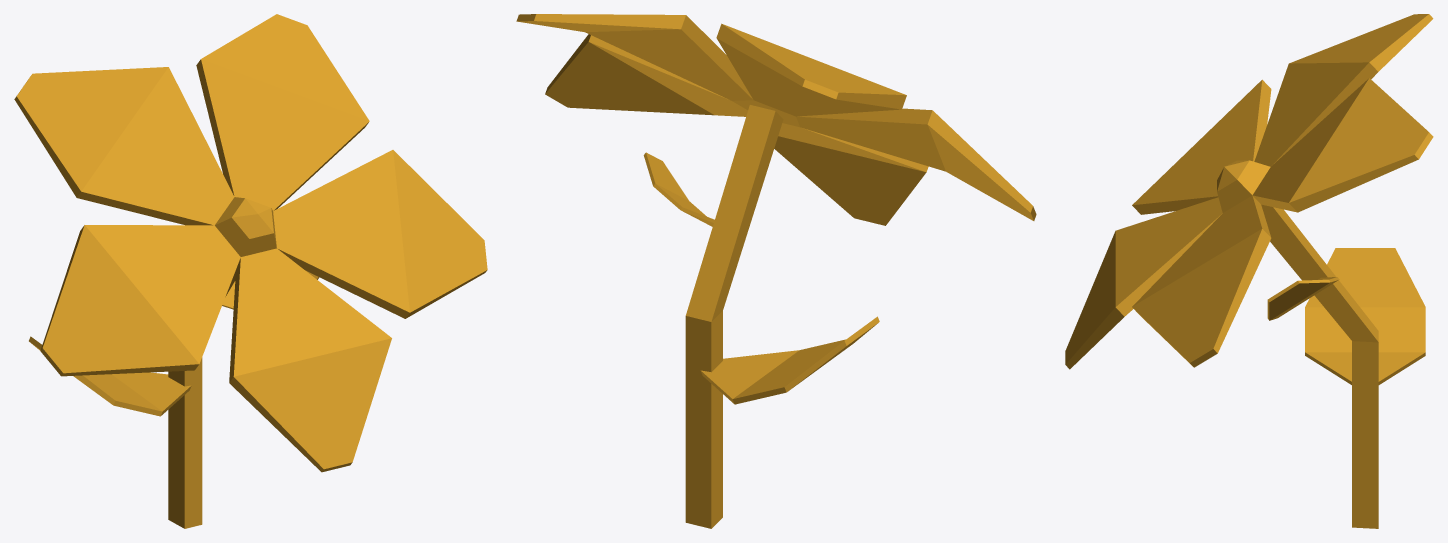
File: Flower_2_Snow.glb
3 renders of one model, left to right at view 1: azimuth 30°, elevation 25°; view 2: azimuth 150°, elevation 25°; view 3: azimuth 270°, elevation 25°, orthographic. The views are drawn at different scales.
Visible parts, largest first — view 1: Flower_2_Snow.001; view 2: Flower_2_Snow.001; view 3: Flower_2_Snow.001.
Part boxes in pixels (x1,y1,x2,y2): Flower_2_Snow.001: (14, 14, 487, 528); Flower_2_Snow.001: (516, 14, 1036, 528); Flower_2_Snow.001: (1065, 14, 1433, 528).
Bounding box in the file's own units: 0.712 × 0.7042 × 0.5186.
